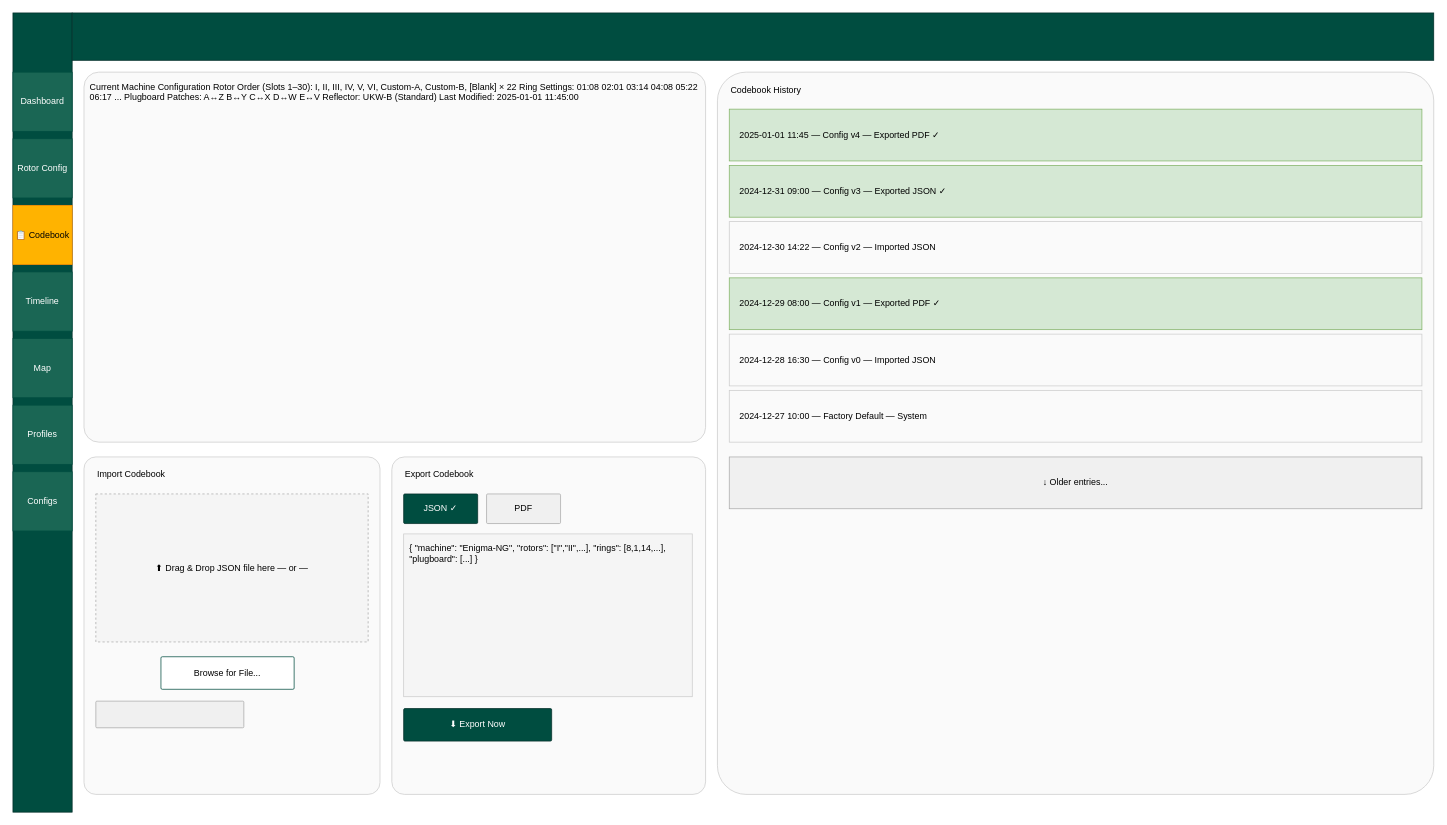
The diagram is 1447 pixels wide and 825 high, and some of its shapes have lost their labels. The shapes that lost their labels are listed below. From the top down, each one's centre as x and y in pixels, then its label:
the point at 752,36: Daily Key — Codebook Manager
the point at 169,714: No file selected
